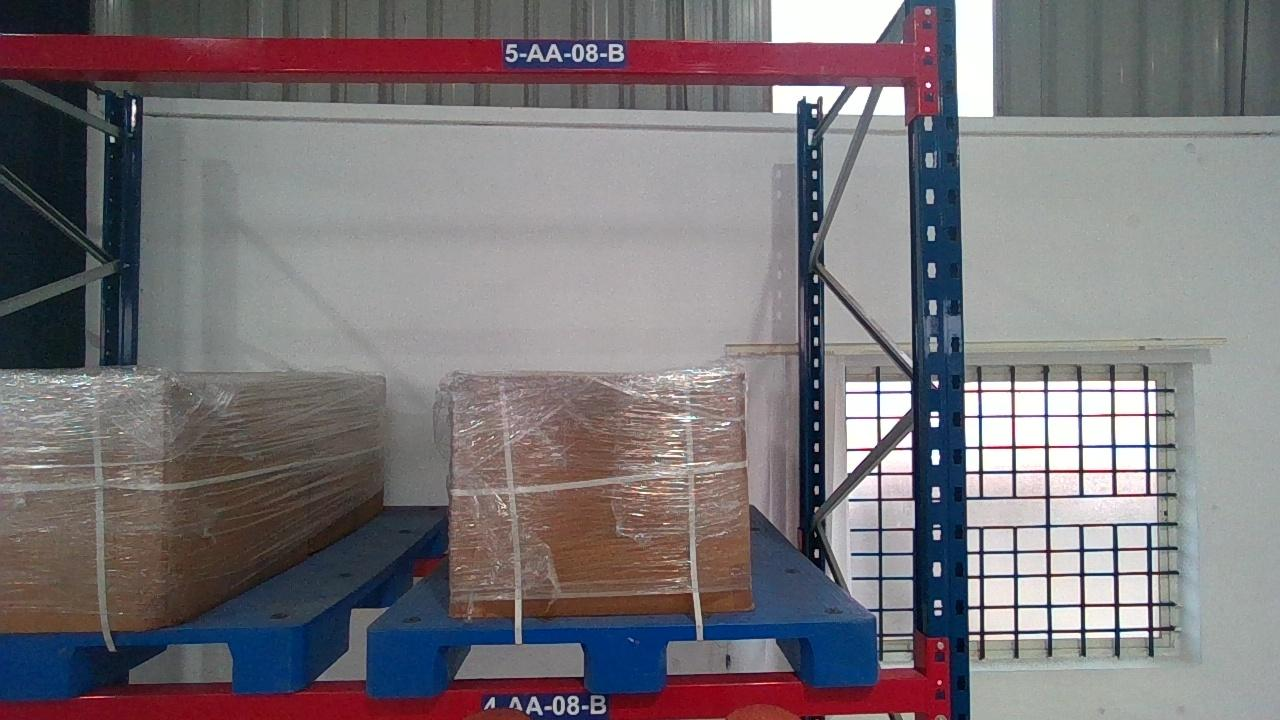h_rack: (4, 675, 918, 719), (0, 36, 916, 76)
small_pallet: (364, 621, 882, 692), (0, 627, 302, 695)
